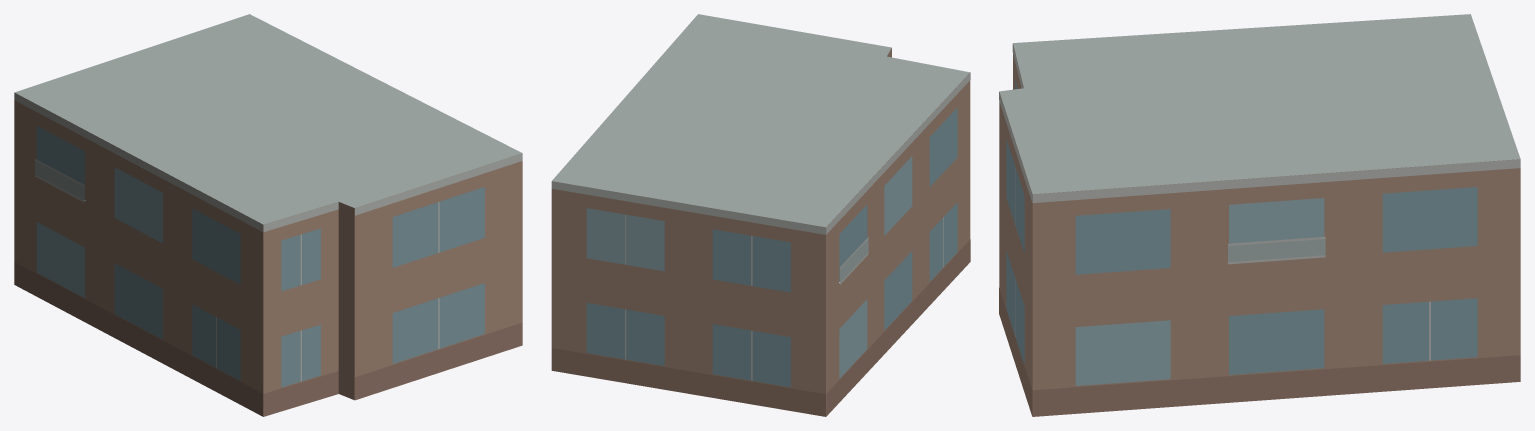
File: survey-upis-33007594.glb
3 renders of one model, left to right at view 1: azimuth 30°, elevation 25°; view 2: azimuth 150°, elevation 25°; view 3: azimuth 270°, elevation 25°, orthographic. The views are drawn at different scales.
Visible parts, largest first — view 1: survey-upis-33007594.tmp; view 2: survey-upis-33007594.tmp; view 3: survey-upis-33007594.tmp.
Boxes of the visible parts, bbox=[...] form: survey-upis-33007594.tmp: bbox=[14, 14, 522, 416]; survey-upis-33007594.tmp: bbox=[551, 14, 970, 416]; survey-upis-33007594.tmp: bbox=[999, 14, 1520, 416].
Size of the model in its own units: 10.6 by 6.1 by 12.96.
